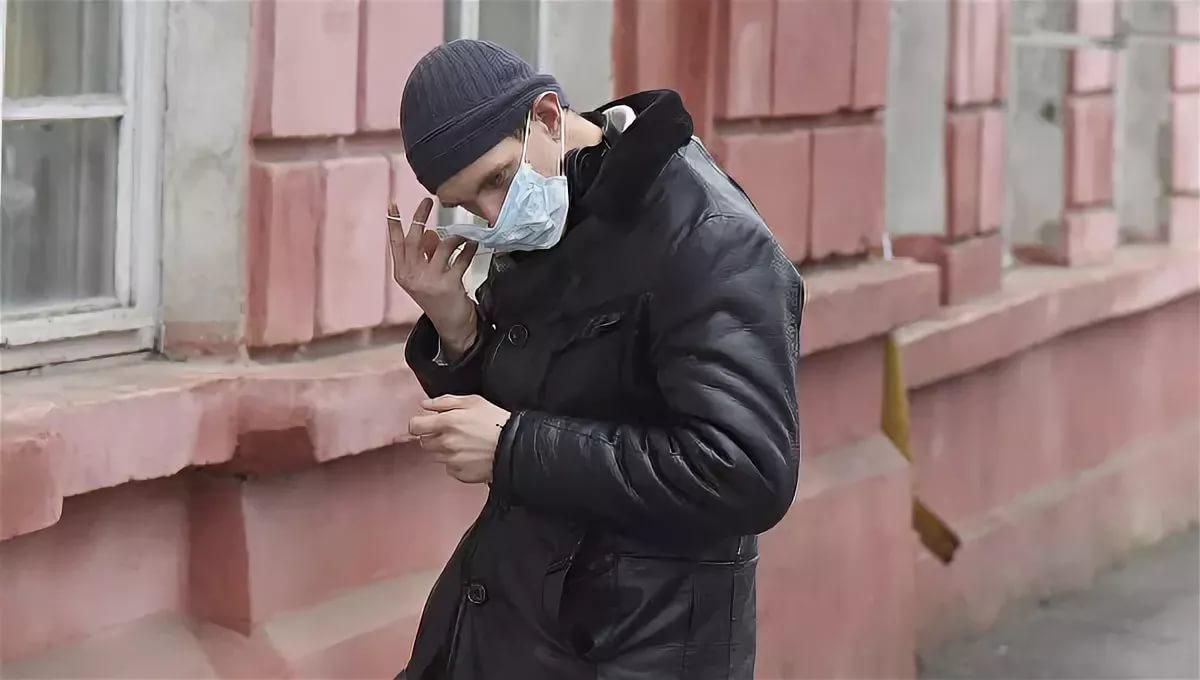mask: (423, 105, 565, 260)
